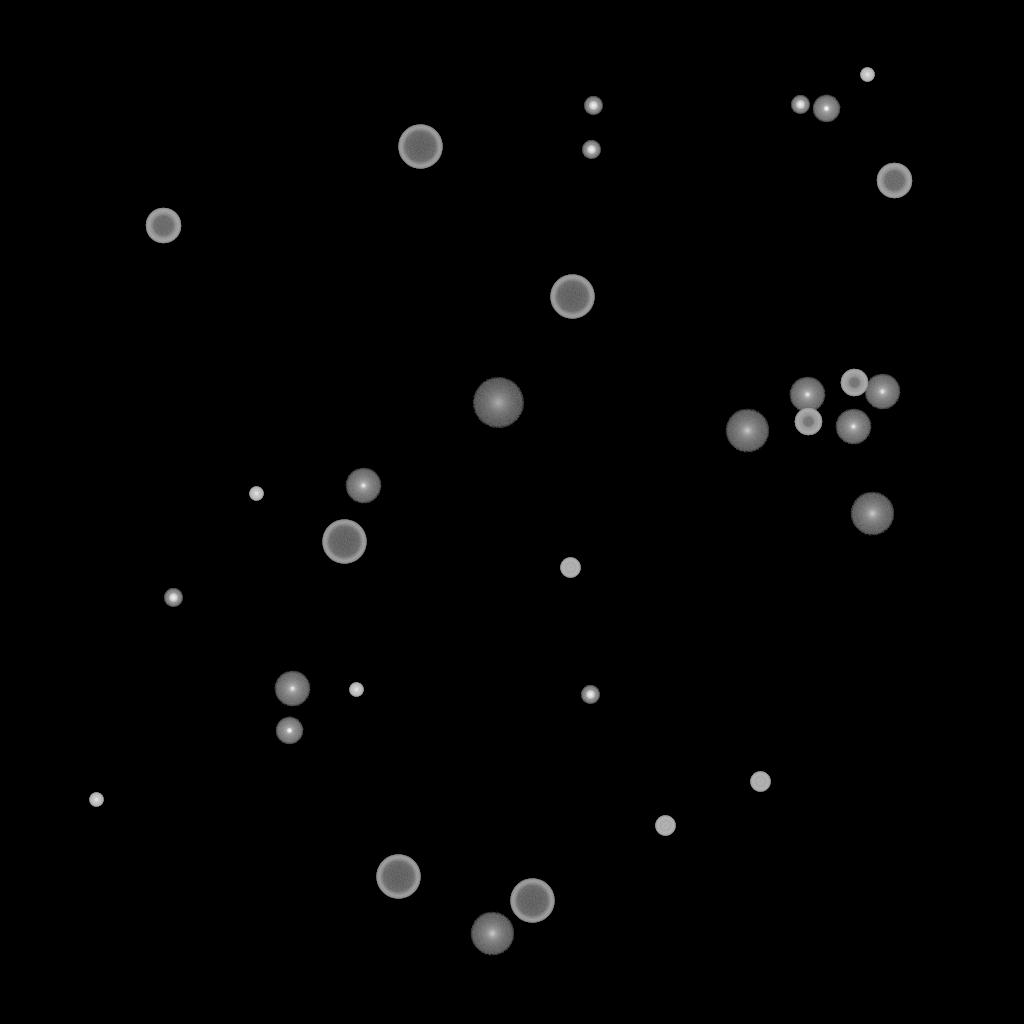depth:-10: (275, 717, 303, 745), (812, 95, 840, 123)
depth:-20: (584, 97, 602, 115), (164, 589, 182, 607), (581, 686, 599, 704), (582, 141, 600, 159), (791, 96, 809, 114)
depth:-30: (349, 683, 363, 697), (89, 793, 103, 807), (860, 68, 874, 82), (249, 487, 263, 501)
depth:-40: (655, 816, 675, 836), (560, 558, 580, 578), (750, 772, 770, 792)
depth:-50: (794, 408, 822, 436), (840, 369, 868, 397)
depth:-60: (145, 208, 181, 244), (876, 163, 912, 199)
depth:-70: (398, 125, 442, 169), (376, 855, 420, 899), (550, 275, 594, 319), (322, 520, 366, 564), (510, 879, 554, 923)
depth:0: (835, 409, 871, 445), (345, 468, 381, 504), (864, 374, 900, 410), (789, 377, 825, 413), (274, 671, 310, 707)
depth:10: (725, 409, 769, 453), (470, 912, 514, 956), (850, 492, 894, 536)
depth:20: (472, 378, 524, 428)
